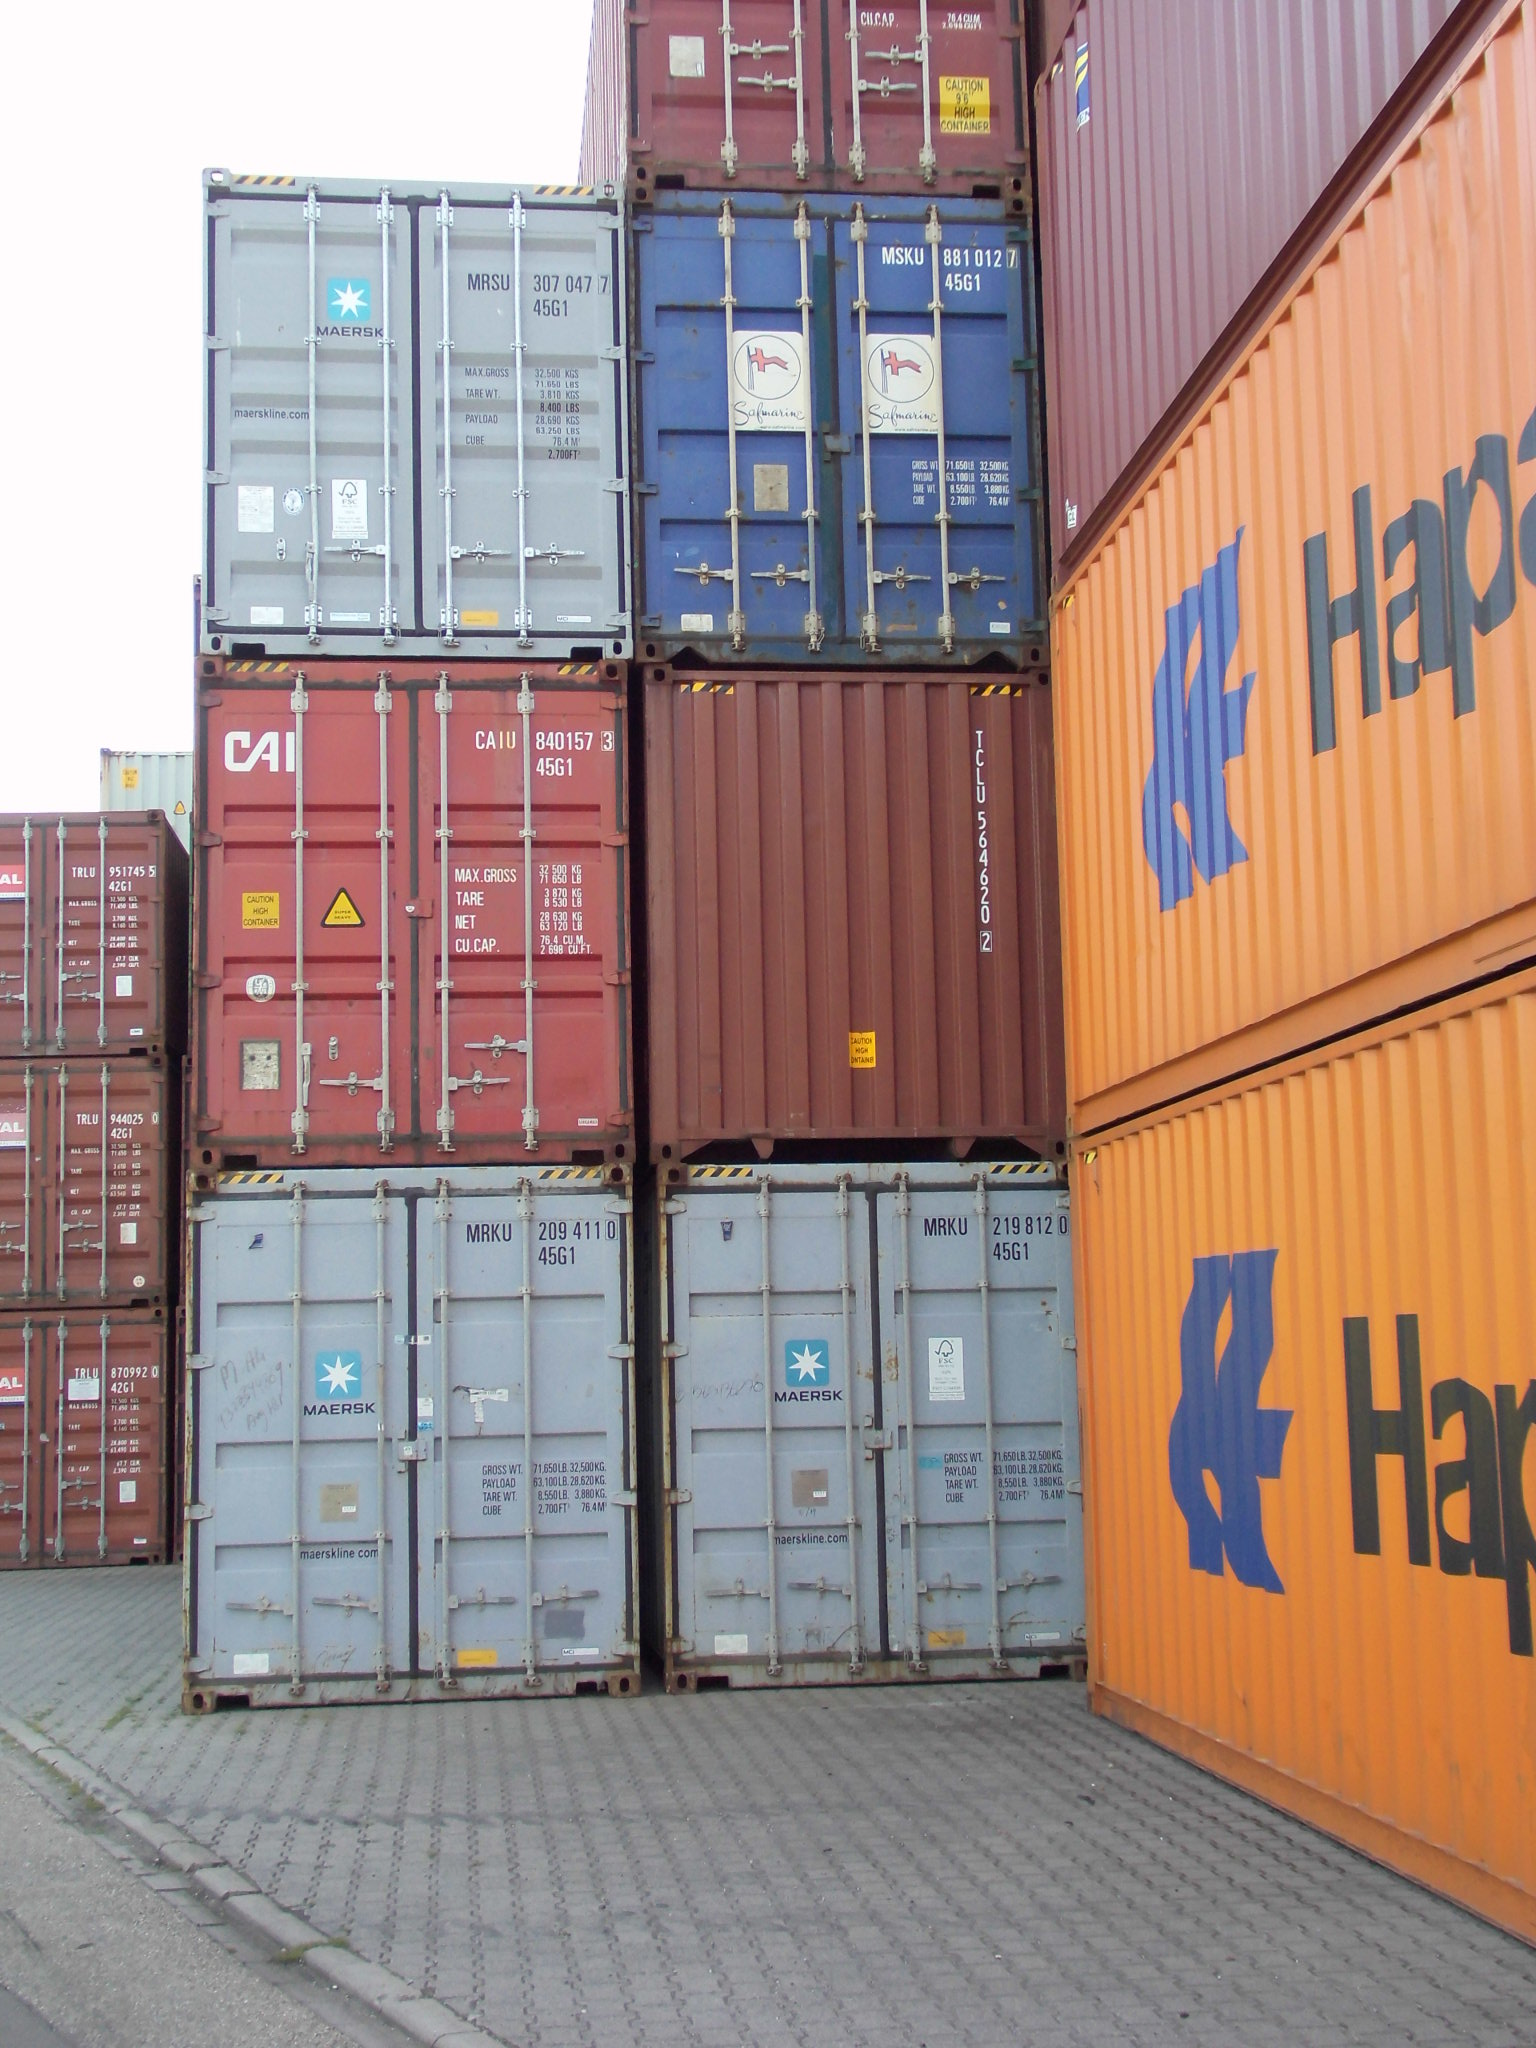container_door: (189, 1158, 650, 1701), (653, 1164, 1087, 1688), (194, 666, 637, 1155), (194, 171, 636, 660), (642, 189, 1039, 664), (636, 2, 1028, 194), (2, 1311, 165, 1563), (2, 813, 169, 1055), (2, 1055, 169, 1297)
container_no_door: (632, 660, 1084, 1168)
